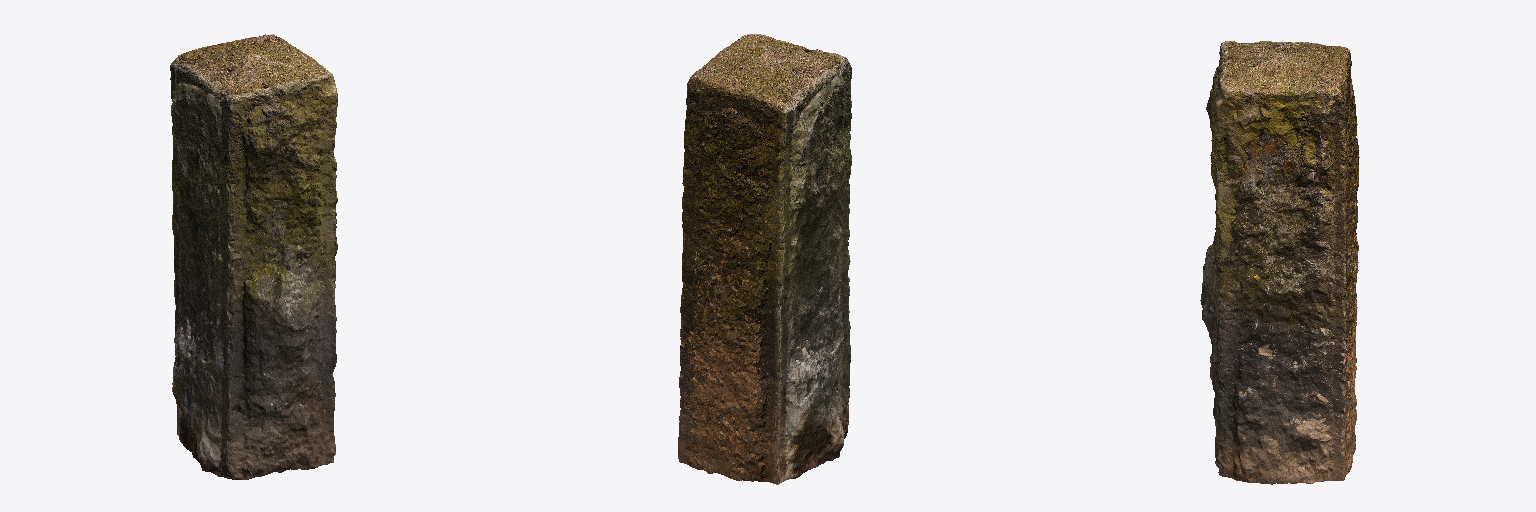
3 views of the same model, side by side, from view 1: azimuth 30°, elevation 25°; view 2: azimuth 150°, elevation 25°; view 3: azimuth 270°, elevation 25° (orthographic).
Visible parts, largest first — view 1: milestone_01_Low_20k_tris_; view 2: milestone_01_Low_20k_tris_; view 3: milestone_01_Low_20k_tris_.
Boxes of the visible parts, box(x1,y1,x2,y2) form: milestone_01_Low_20k_tris_: box(170, 34, 337, 479); milestone_01_Low_20k_tris_: box(678, 34, 851, 484); milestone_01_Low_20k_tris_: box(1200, 41, 1359, 484).
Size of the model in its own units: 0.4082 by 1.19 by 0.4325.
1 materials, 1 textured.